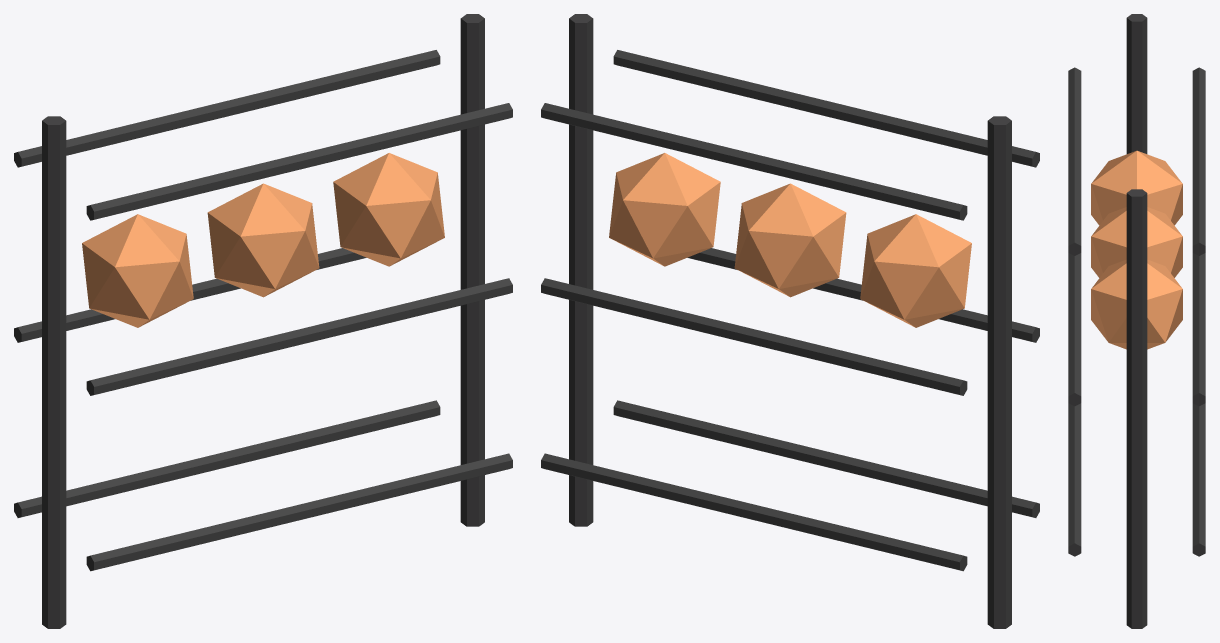
The picture shows the model from 3 angles, left to right: view 1: azimuth 30°, elevation 25°; view 2: azimuth 150°, elevation 25°; view 3: azimuth 270°, elevation 25°; orthographic projection. The views are drawn at different scales.
Visible parts, largest first — view 1: Frame, Frame.001, Ball, Ball.001, Ball.002, Rail.004, Rail, Rail.002, Rail.001, Rail.005, Rail.003; view 2: Frame, Frame.001, Ball, Ball.001, Ball.002, Rail.005, Rail.001, Rail.003, Rail, Rail.004, Rail.002; view 3: Frame.001, Ball.002, Ball, Ball.001, Frame, Rail.004, Rail.005, Rail, Rail.001, Rail.002, Rail.003.
Part boxes in pixels (x1,y1,x2,y2): Frame: (42,116,66,628); Frame.001: (460,14,484,526); Ball: (82,214,193,327); Ball.001: (207,183,319,297); Ball.002: (333,153,444,266); Rail.004: (86,103,512,220); Rail: (86,453,512,571); Rail.002: (86,278,512,395); Rail.001: (14,400,440,517); Rail.005: (14,50,440,167); Rail.003: (14,248,366,342); Frame: (987,116,1011,628); Frame.001: (569,14,593,526); Ball: (860,214,971,327); Ball.001: (734,183,846,297); Ball.002: (609,153,720,266); Rail.005: (541,103,967,220); Rail.001: (541,453,967,571); Rail.003: (541,278,967,395); Rail: (613,400,1039,517); Rail.004: (613,50,1039,167); Rail.002: (687,248,1039,342); Frame.001: (1126,189,1147,628); Ball.002: (1091,259,1182,349); Ball: (1091,150,1182,225); Ball.001: (1091,207,1182,277); Frame: (1126,14,1147,153); Rail.004: (1068,67,1081,255); Rail.005: (1192,67,1205,255); Rail: (1068,403,1081,556); Rail.001: (1192,403,1205,556); Rail.002: (1068,253,1081,406); Rail.003: (1192,253,1205,406).
Size of the model in its own units: 104 by 115 by 33.12.
